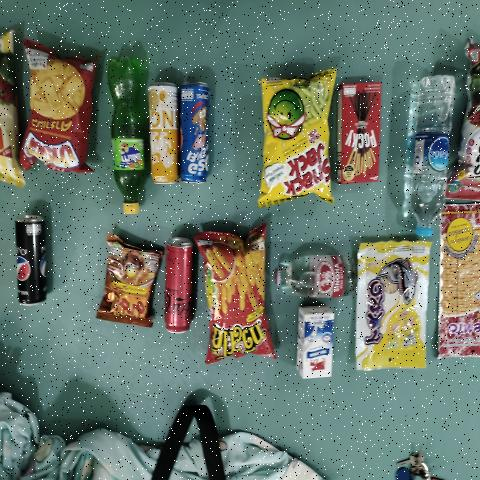coke_red: (164, 240, 192, 333)
crystal: (401, 68, 453, 236)
fanta_green: (108, 41, 144, 217)
mama: (103, 241, 151, 326)
party_red: (25, 41, 88, 174)
pepsi_black: (13, 213, 49, 307)
pepsi_blue: (178, 75, 210, 183)
pokki: (339, 86, 378, 179)
singha_soda: (270, 250, 351, 296)
singha_yellow: (150, 80, 176, 187)
snack_jack: (267, 79, 326, 197)
taro_yellow: (358, 241, 426, 366)
thai_denmark: (297, 309, 332, 379)
twisco: (205, 237, 265, 348)
